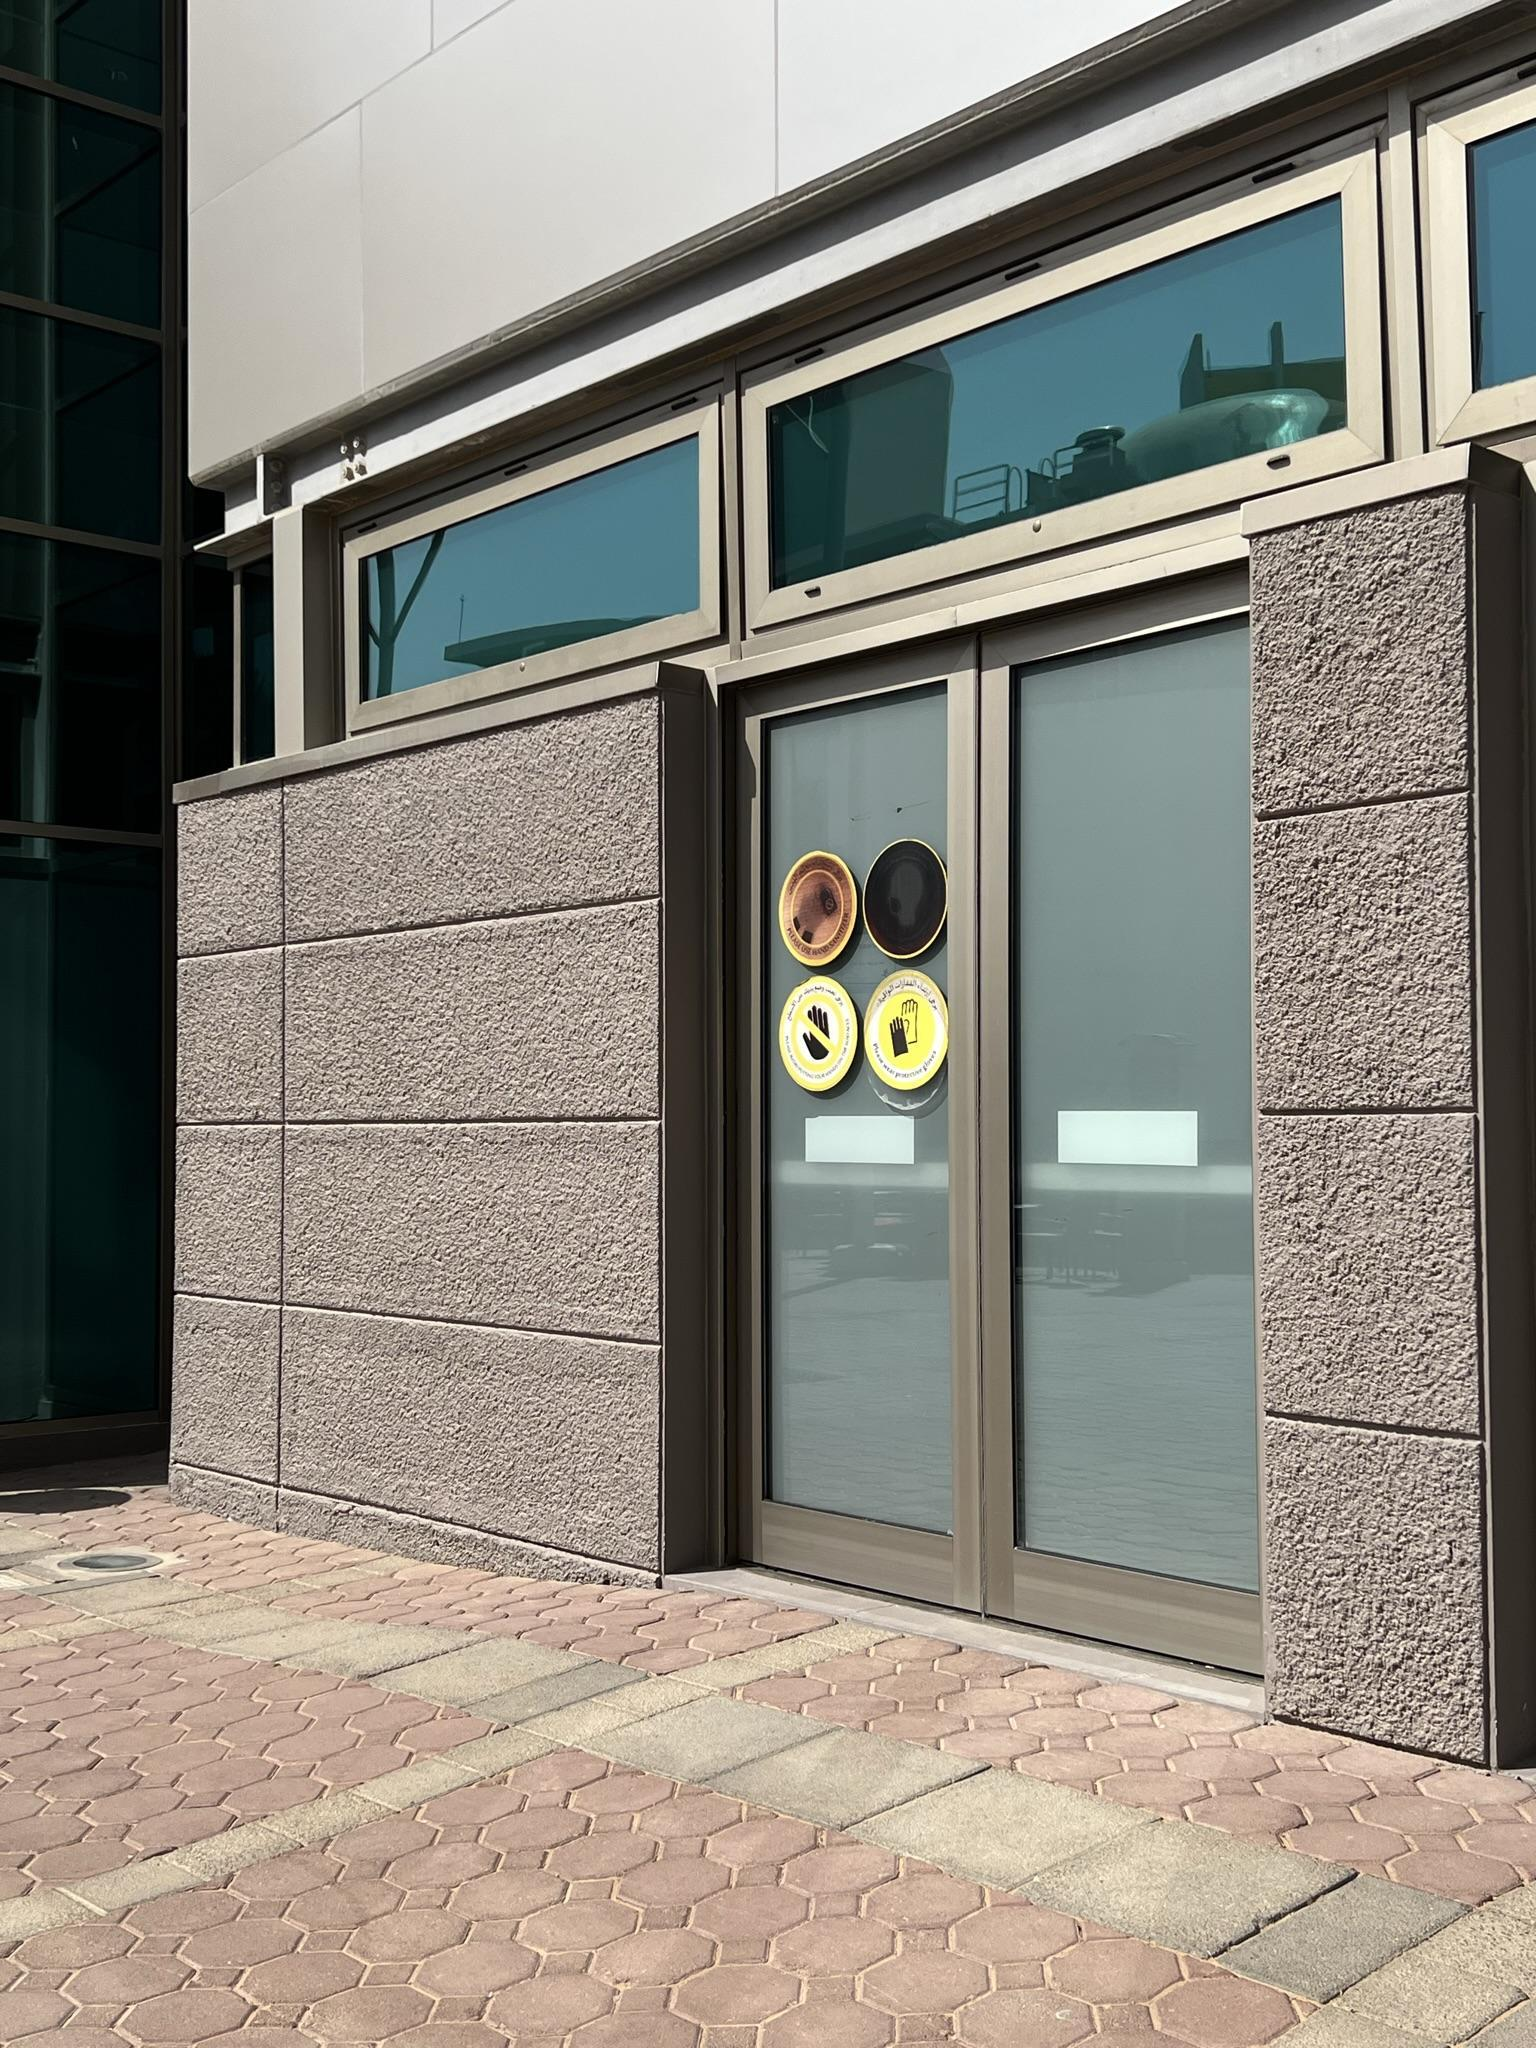door: (1002, 616, 1292, 1666), (733, 685, 1021, 1593)
